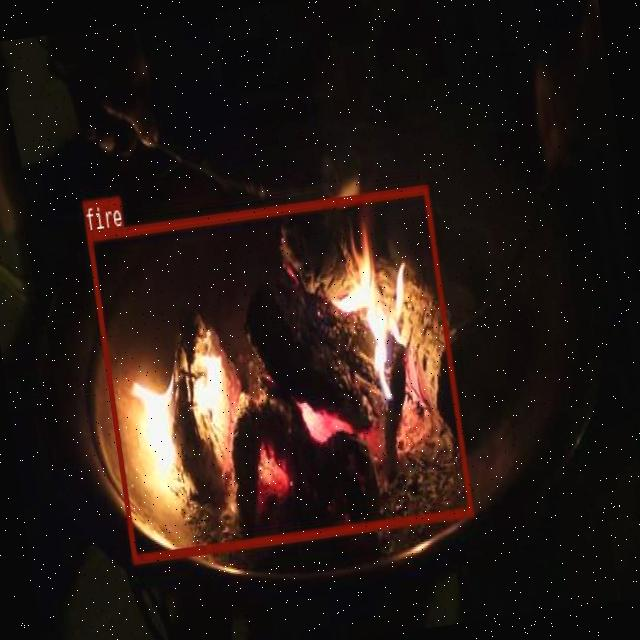fire: (86, 184, 472, 562)
